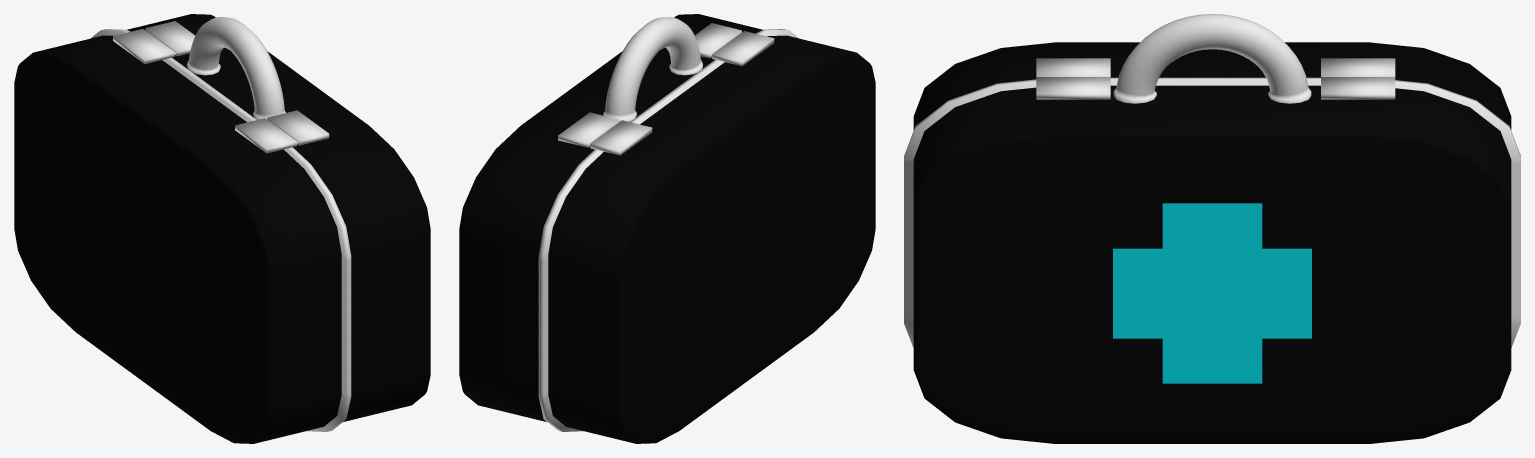
File: MedKit.fbx
3 views of the same model, side by side, from view 1: azimuth 30°, elevation 25°; view 2: azimuth 150°, elevation 25°; view 3: azimuth 270°, elevation 25° (orthographic). The views are drawn at different scales.
Visible parts, largest first — view 1: MedKit_SM; view 2: MedKit_SM; view 3: MedKit_SM.
Boxes of the visible parts, left/top/right/bottom form: MedKit_SM: left=14, top=14, right=430, bottom=443; MedKit_SM: left=459, top=14, right=875, bottom=443; MedKit_SM: left=904, top=14, right=1520, bottom=443.
Bounding box in the file's own units: 67.09 × 134 × 189.
